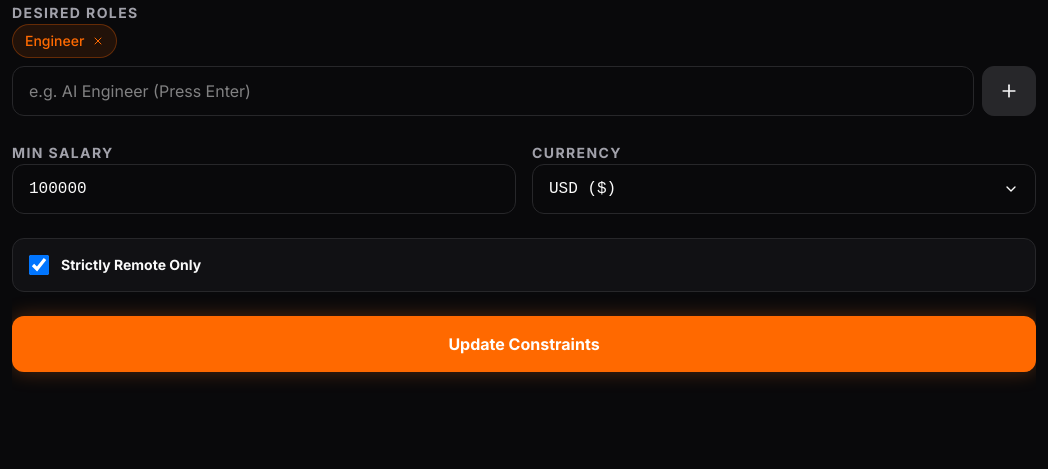
Test case: ProfileSettingsForm › shows an error and stops the spinner instead of hanging when the save throws
Click the button "Update Constraints". click: (524, 344)
box: x1=12 y1=316 x2=1036 y2=372
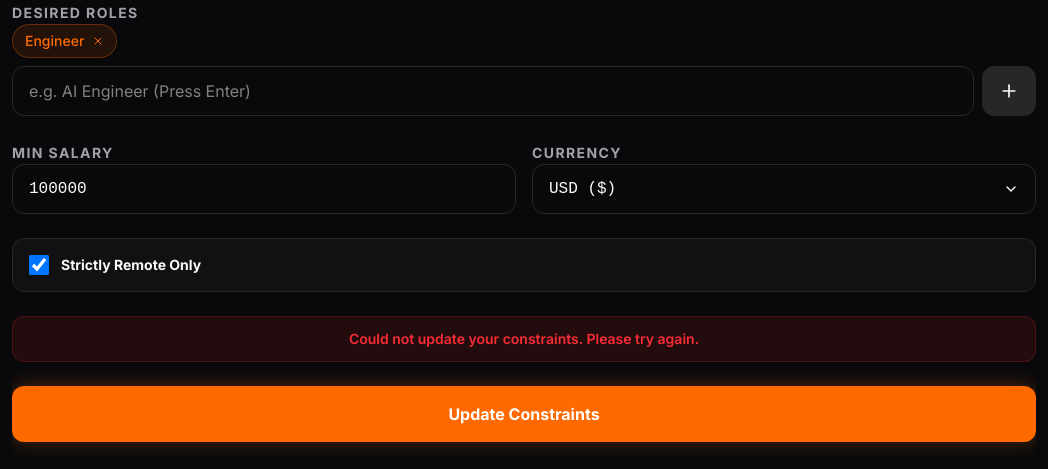
expect the button "Update Constraints" is enabled: met, box x1=12 y1=386 x2=1036 y2=442
expect the text "Could not update your constraints. Please try again." is shown: met, box x1=12 y1=316 x2=1036 y2=362
